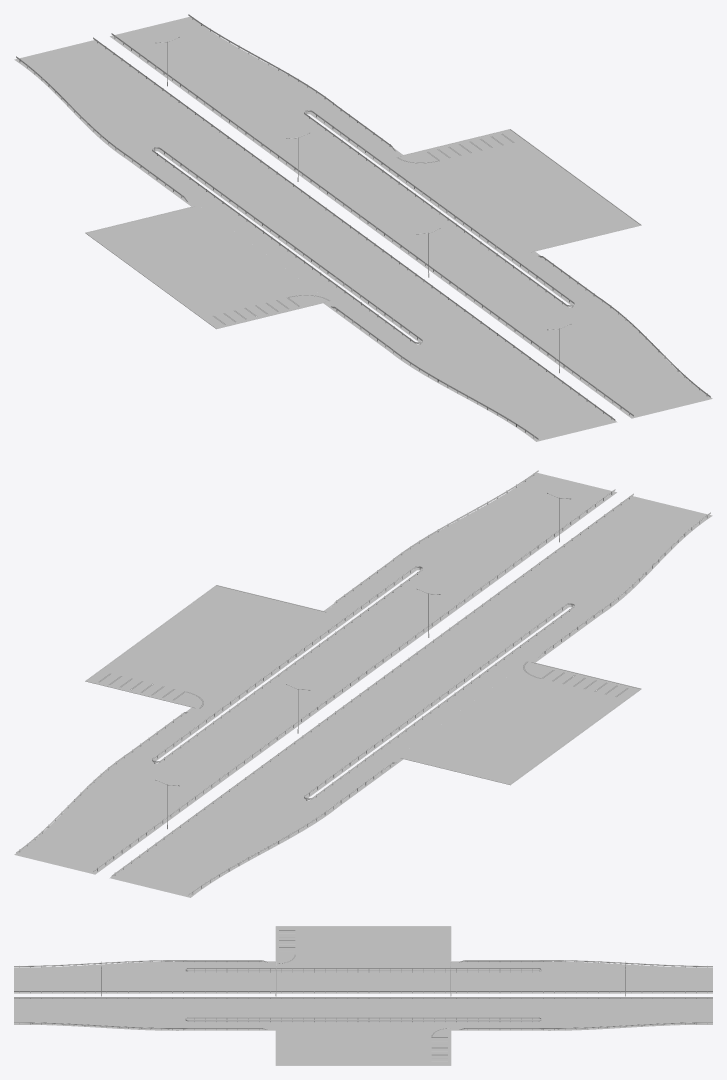
File: Gas_Station.fbx
3 renders of one model, top to bottom at view 1: azimuth 30°, elevation 25°; view 2: azimuth 150°, elevation 25°; view 3: azimuth 270°, elevation 25°, orthographic. The views are drawn at different scales.
Parts seen in each view (by area): view 1: Gas_Station_Surface, Gas_Station_Pavement, Gas_Station_Edges, Gas_Station_Barriers, Gas_Station_Curbs; view 2: Gas_Station_Surface, Gas_Station_Pavement, Gas_Station_Edges, Gas_Station_Barriers, Gas_Station_Curbs; view 3: Gas_Station_Surface, Gas_Station_Pavement, Gas_Station_Barriers, Gas_Station_Edges, Gas_Station_Curbs, Gas_Station_Markings.
Boxes of the visible parts, x1,y1,x2,y2 form: Gas_Station_Surface: (19,17,708,440); Gas_Station_Pavement: (87,130,639,328); Gas_Station_Edges: (14,17,712,441); Gas_Station_Barriers: (16,14,710,439); Gas_Station_Curbs: (85,129,641,329); Gas_Station_Surface: (18,473,707,896); Gas_Station_Pavement: (87,586,639,784); Gas_Station_Edges: (14,473,712,897); Gas_Station_Barriers: (16,470,710,895); Gas_Station_Curbs: (85,585,641,785); Gas_Station_Surface: (14,962,712,1029); Gas_Station_Pavement: (276,927,450,1064); Gas_Station_Barriers: (14,960,712,1030); Gas_Station_Edges: (14,961,712,1030); Gas_Station_Curbs: (275,926,451,1065); Gas_Station_Markings: (276,930,450,1061).
Size of the model in its own units: 12040 by 25600 by 1271.
